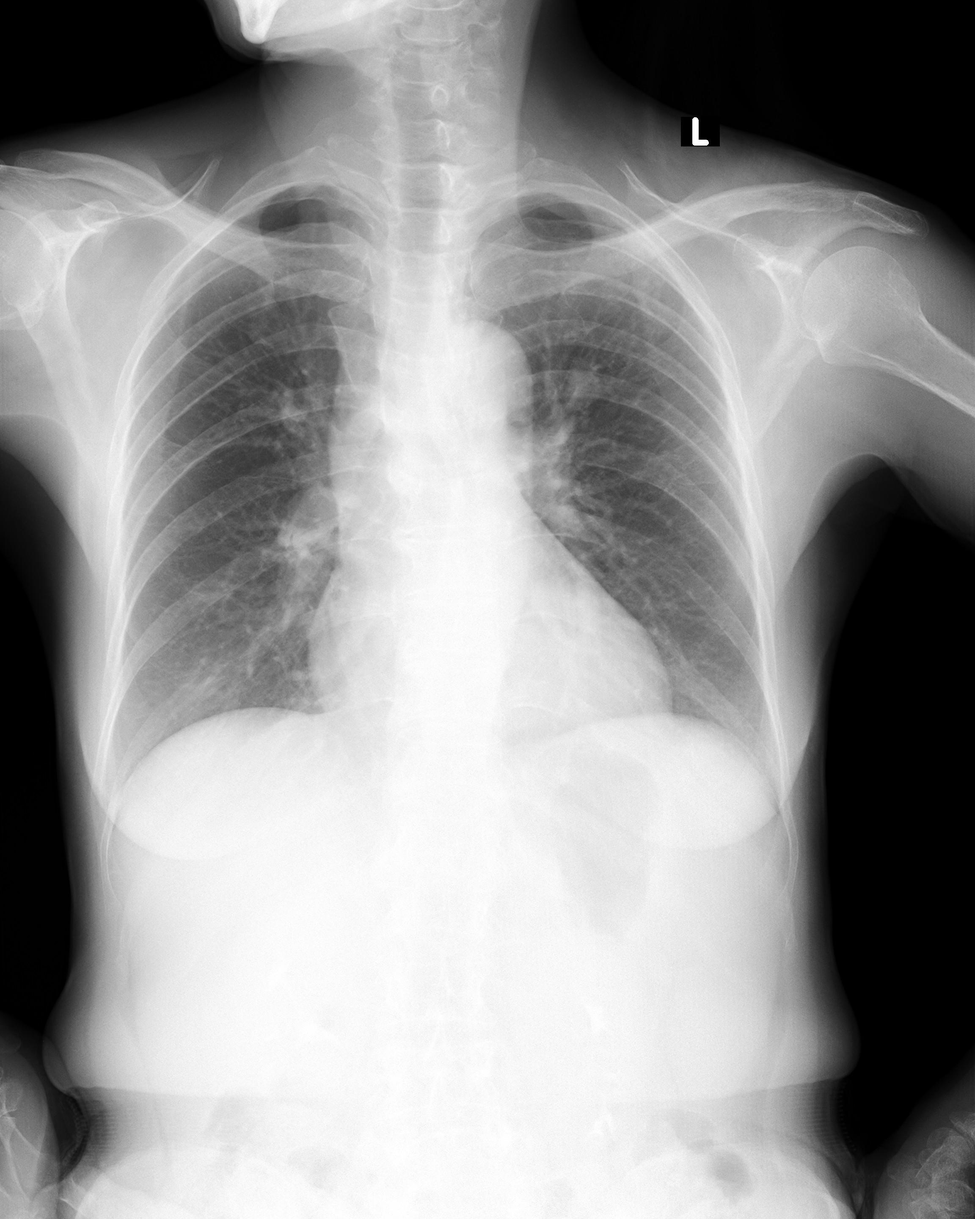Aortic enlargement: (419, 316, 535, 439)
Cardiomegaly: (303, 609, 675, 734)
Pleural thickening: (539, 200, 630, 232), (248, 182, 325, 214)
